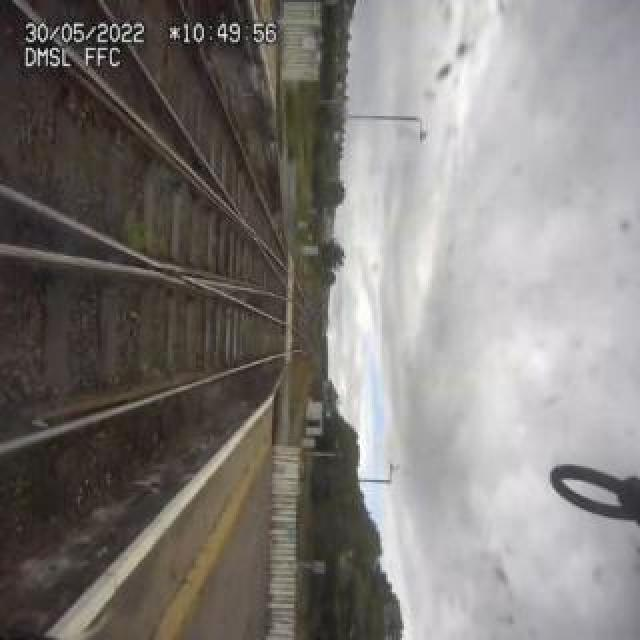rusted-track: (84, 361, 216, 397), (36, 394, 104, 430)
